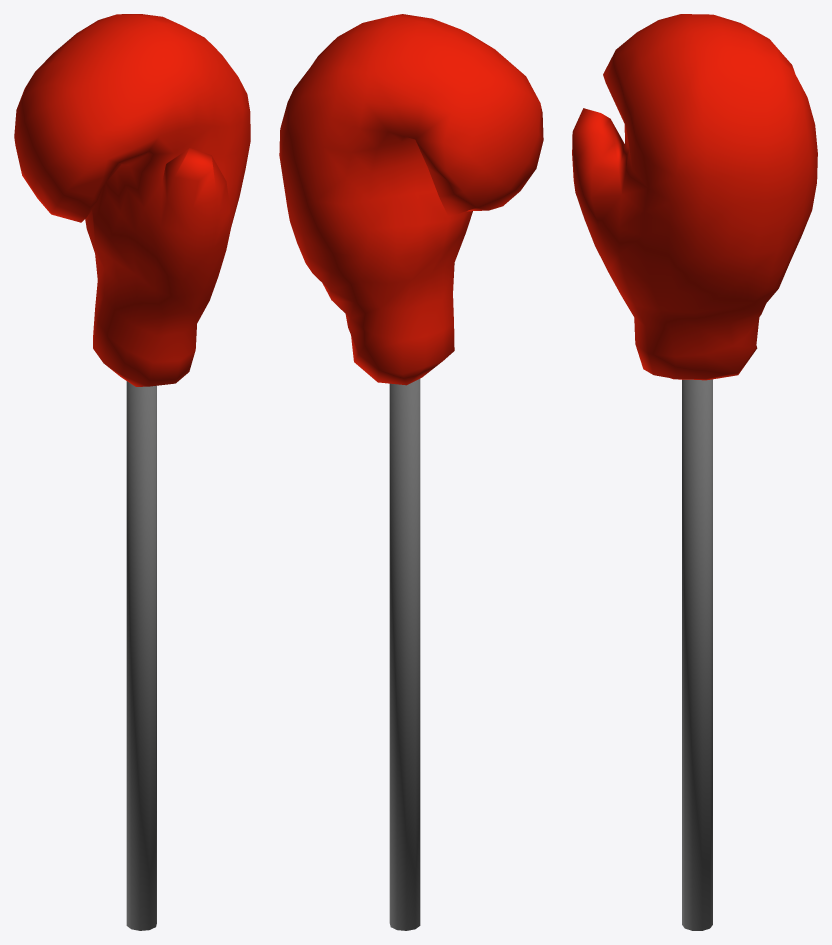
File: Box Gloves.fbx
3 views of the same model, side by side, from view 1: azimuth 30°, elevation 25°; view 2: azimuth 150°, elevation 25°; view 3: azimuth 270°, elevation 25° (orthographic).
Visible parts, largest first — view 1: Box Gloves3; view 2: Box Gloves3; view 3: Box Gloves3.
Part boxes in pixels (x1,y1,x2,y2): Box Gloves3: [14, 14, 250, 930]; Box Gloves3: [279, 14, 543, 930]; Box Gloves3: [572, 14, 817, 930].
Bounding box in the file's own units: 232 × 920 × 228.
